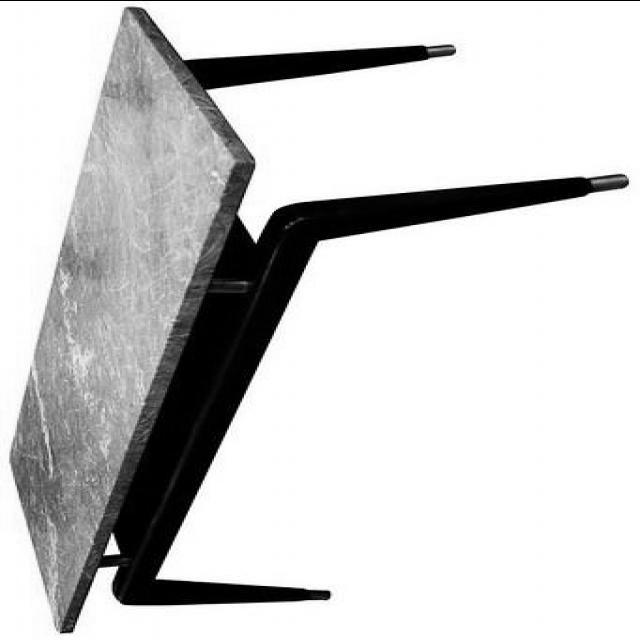table: (9, 7, 625, 634)
